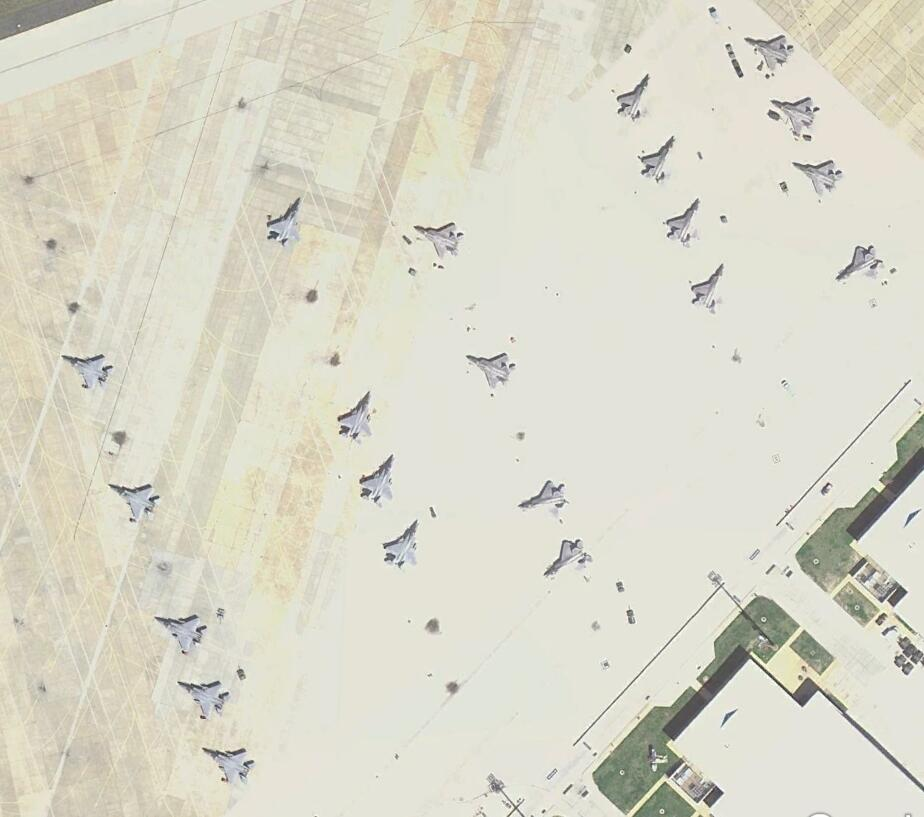A13: (200, 743, 261, 790), (108, 479, 165, 524), (153, 610, 209, 654), (382, 516, 425, 571), (266, 193, 306, 250), (60, 350, 117, 390), (177, 678, 232, 719), (339, 390, 377, 444), (361, 453, 398, 504)
A15: (666, 195, 707, 253), (546, 535, 594, 582), (639, 133, 680, 187), (413, 221, 467, 262), (744, 32, 796, 74), (770, 95, 822, 137), (793, 155, 845, 197), (692, 259, 731, 314), (838, 243, 889, 285), (465, 349, 517, 390), (614, 71, 654, 123), (523, 476, 571, 518)
